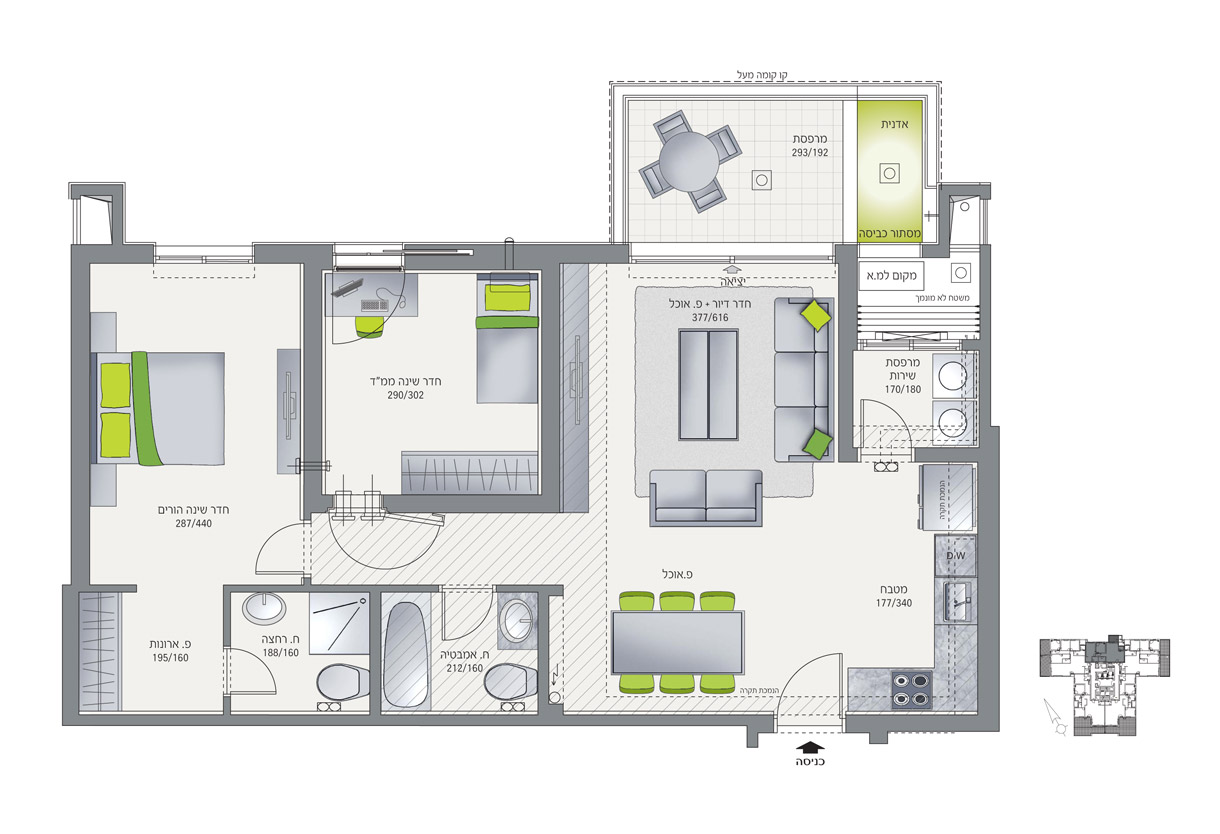door: (766, 647, 846, 710), (252, 521, 302, 581), (232, 641, 282, 701), (437, 594, 494, 644), (855, 396, 912, 446)
wall: (70, 244, 89, 587), (979, 427, 999, 733), (540, 241, 560, 514), (303, 244, 321, 514), (63, 586, 79, 726)
window: (629, 241, 835, 265), (332, 242, 403, 273), (151, 244, 253, 263)
